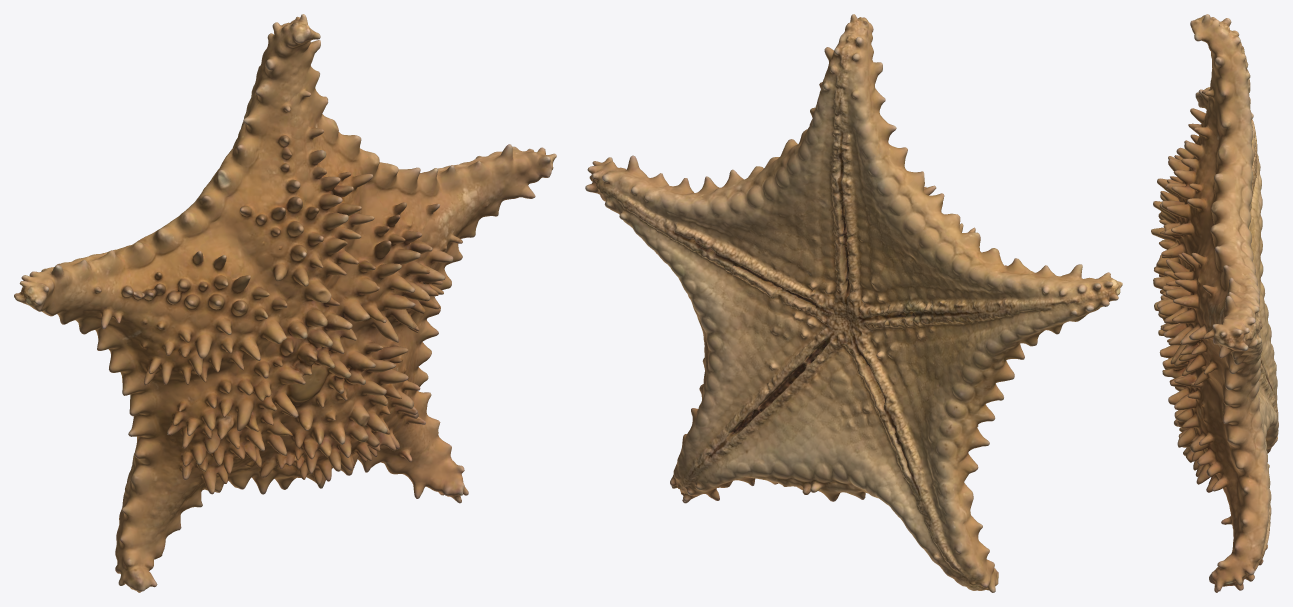
3 renders of one model, left to right at view 1: azimuth 30°, elevation 25°; view 2: azimuth 150°, elevation 25°; view 3: azimuth 270°, elevation 25°, orthographic. The views are drawn at different scales.
Visible parts, largest first — view 1: Goniaster_tessellatus-unwrapped-webmulti; view 2: Goniaster_tessellatus-unwrapped-webmulti; view 3: Goniaster_tessellatus-unwrapped-webmulti.
Part boxes in pixels (box(x1,y1,x2,y2)): Goniaster_tessellatus-unwrapped-webmulti: box(14, 14, 556, 592); Goniaster_tessellatus-unwrapped-webmulti: box(585, 14, 1122, 592); Goniaster_tessellatus-unwrapped-webmulti: box(1151, 14, 1278, 592).
Bounding box in the file's own units: 5181 × 5018 × 1116.
Materials: 1 (1 with a texture image).
